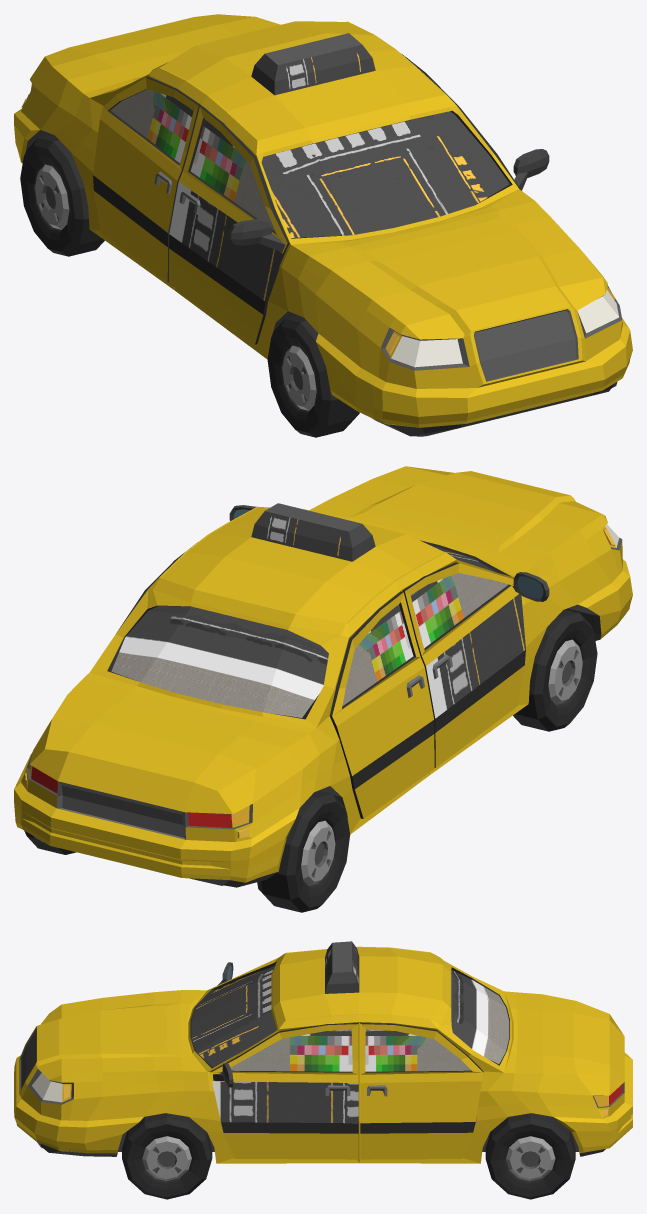
The model's file is Car_taxi.fbx.
3 views of the same model, one above another, from view 1: azimuth 30°, elevation 25°; view 2: azimuth 150°, elevation 25°; view 3: azimuth 270°, elevation 25° (orthographic). The views are drawn at different scales.
Parts seen in each view (by area): view 1: Car_Taxi, Car_base.002, Car_base.001, Wheel_Big_FrontL.007, Wheel_Big_FrontL.009, Car_base.007; view 2: Car_Taxi, Car_base.002, Car_base.001, Wheel_Big_FrontL.007, Wheel_Big_FrontL.009; view 3: Car_Taxi, Car_base.007, Car_base.003, Wheel_Big_FrontL.008, Wheel_Big_FrontL.010.
Part boxes in pixels (bbox=[...]): Car_Taxi: bbox=[14, 14, 632, 436]; Car_base.002: bbox=[168, 106, 289, 344]; Car_base.001: bbox=[93, 77, 201, 282]; Wheel_Big_FrontL.007: bbox=[20, 134, 104, 256]; Wheel_Big_FrontL.009: bbox=[267, 315, 359, 437]; Car_base.007: bbox=[405, 56, 549, 190]; Car_Taxi: bbox=[14, 466, 632, 887]; Car_base.002: bbox=[402, 562, 549, 767]; Car_base.001: bbox=[329, 591, 434, 818]; Wheel_Big_FrontL.007: bbox=[257, 790, 350, 912]; Wheel_Big_FrontL.009: bbox=[513, 609, 597, 731]; Car_Taxi: bbox=[14, 941, 632, 1163]; Car_base.007: bbox=[210, 1023, 358, 1159]; Car_base.003: bbox=[360, 1023, 483, 1159]; Wheel_Big_FrontL.008: bbox=[485, 1113, 575, 1199]; Wheel_Big_FrontL.010: bbox=[122, 1113, 212, 1199].
Bounding box in the file's own units: 286 × 229 × 656.
